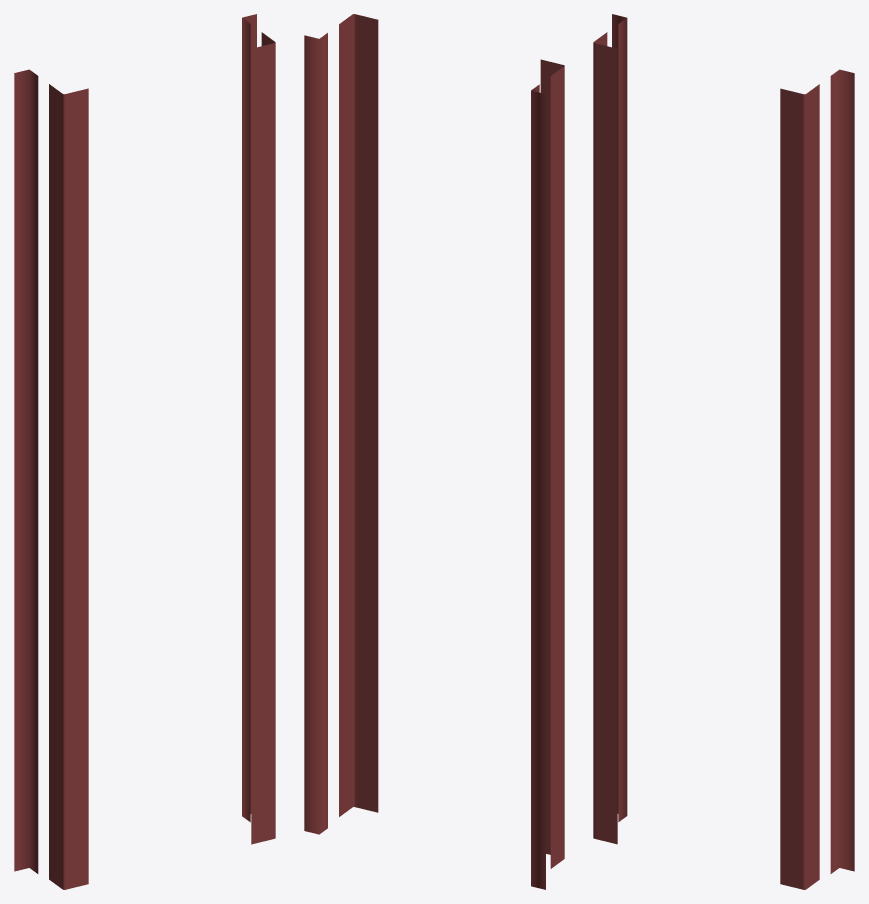
The model's file is Decal_wallIn_B_columnhalf_medium.FBX.
The picture shows the model from 3 angles, left to right: view 1: azimuth 30°, elevation 25°; view 2: azimuth 150°, elevation 25°; view 3: azimuth 330°, elevation 25°; orthographic projection.
Parts seen in each view (by area): view 1: Decal_wallIn_B_columnhalf_medium; view 2: Decal_wallIn_B_columnhalf_medium; view 3: Decal_wallIn_B_columnhalf_medium.
Boxes of the visible parts, box(x1,y1,x2,y2) form: Decal_wallIn_B_columnhalf_medium: box(14, 14, 275, 889); Decal_wallIn_B_columnhalf_medium: box(304, 14, 564, 889); Decal_wallIn_B_columnhalf_medium: box(593, 14, 854, 889).
Bounding box in the file's own units: 80.55 × 253 × 19.79.
